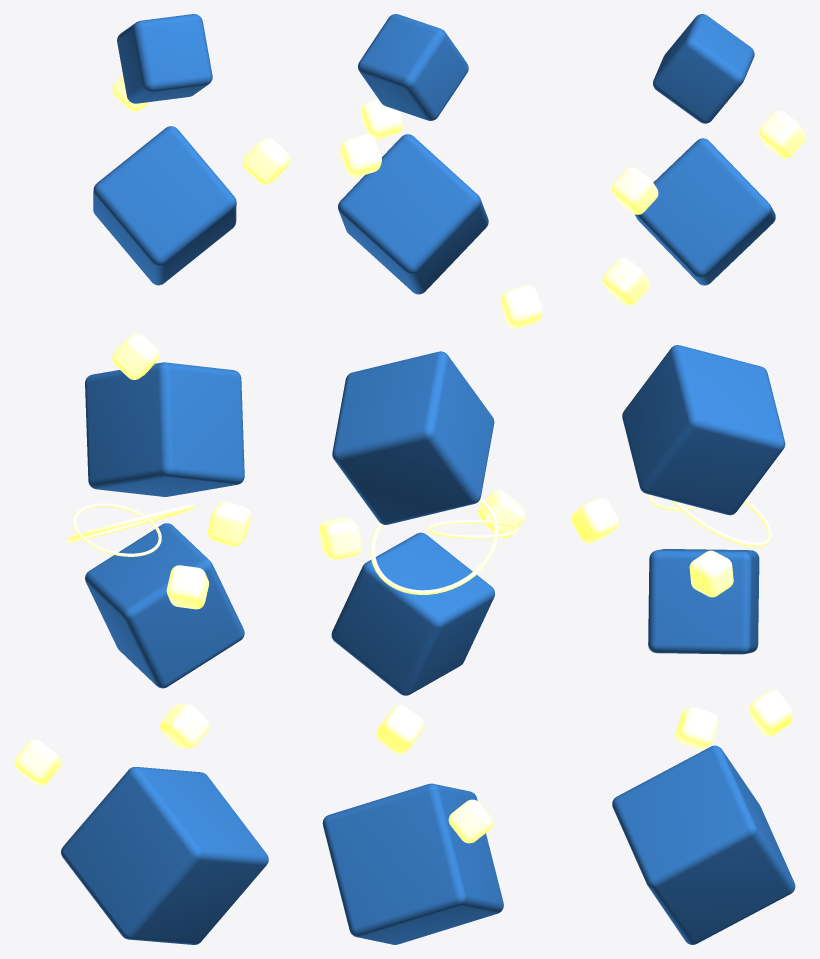
File: test.0deea77e.gltf
3 views of the same model, side by side, from view 1: azimuth 30°, elevation 25°; view 2: azimuth 150°, elevation 25°; view 3: azimuth 270°, elevation 25° (orthographic). The views are drawn at different scales.
Parts seen in each view (by area): view 1: Cube; view 2: Cube; view 3: Cube.
Part boxes in pixels (x1,y1,x2,y2): Cube: (14,14,290,944); Cube: (319,14,542,944); Cube: (571,14,805,944).
Bounding box in the file's own units: 3.67 × 16.09 × 3.77.
